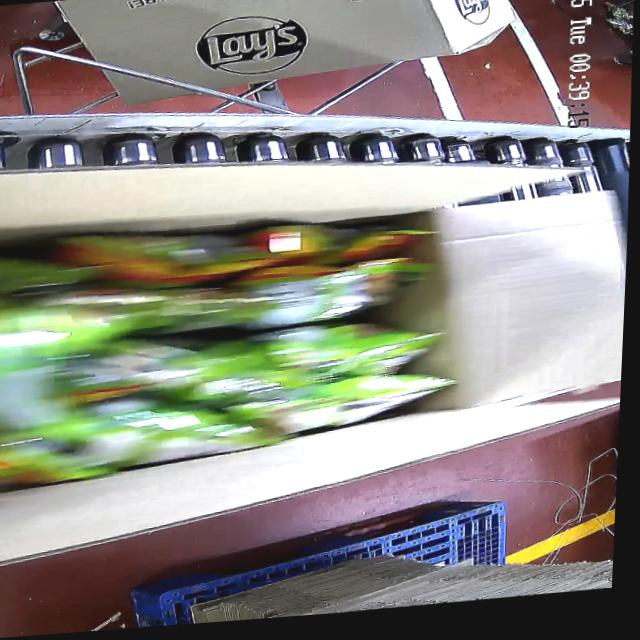YOGURT_HERB: (0, 199, 469, 490)
